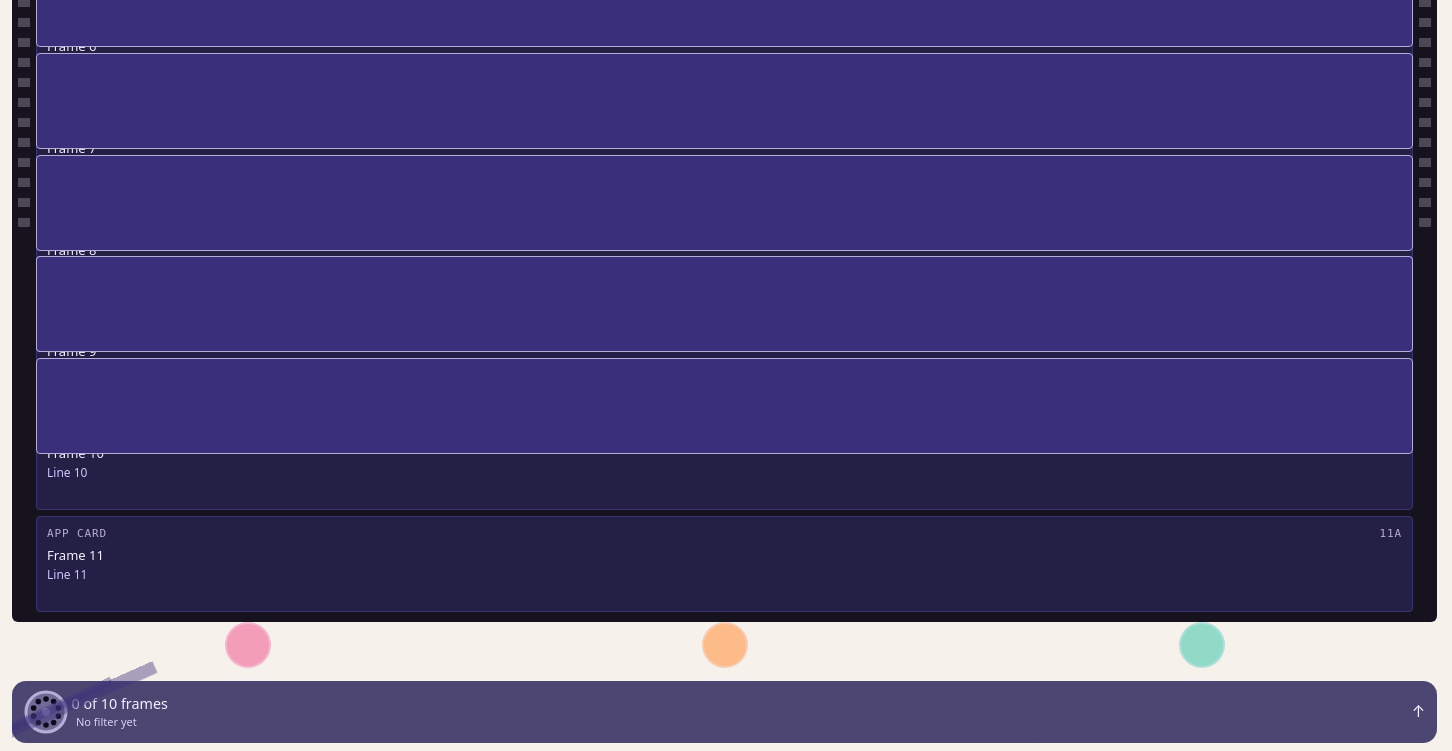
Test: film strip, filters and reel › a picked filter grades the reel
This screenshot has width=1452, height=751.
(page scrolled)
Click the button "Stonks": coordinates (248, 655) [14, 622, 481, 689]
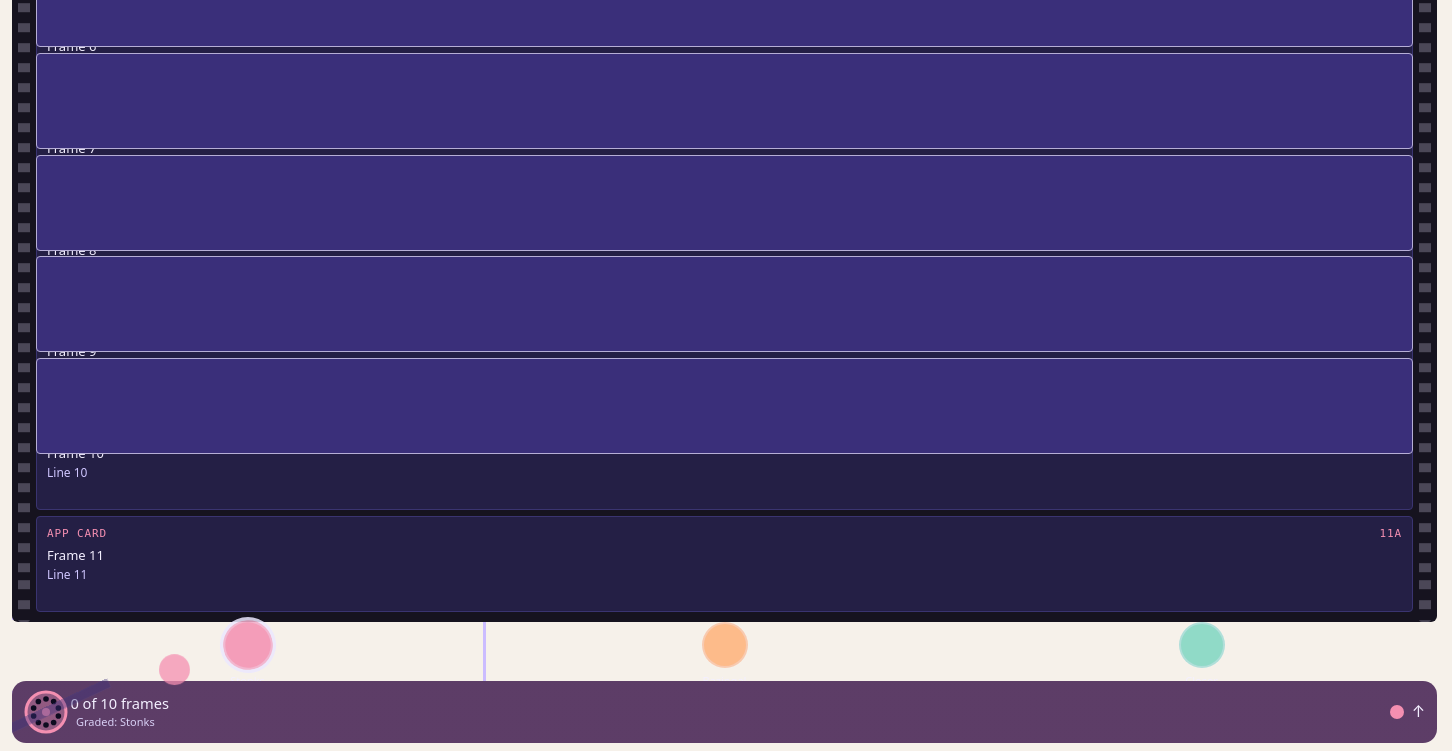
expect the text "Graded: Stonks" is shown: met, box [76, 714, 163, 730]
Click the button "Bazinga!": coordinates (724, 655) [491, 622, 958, 689]
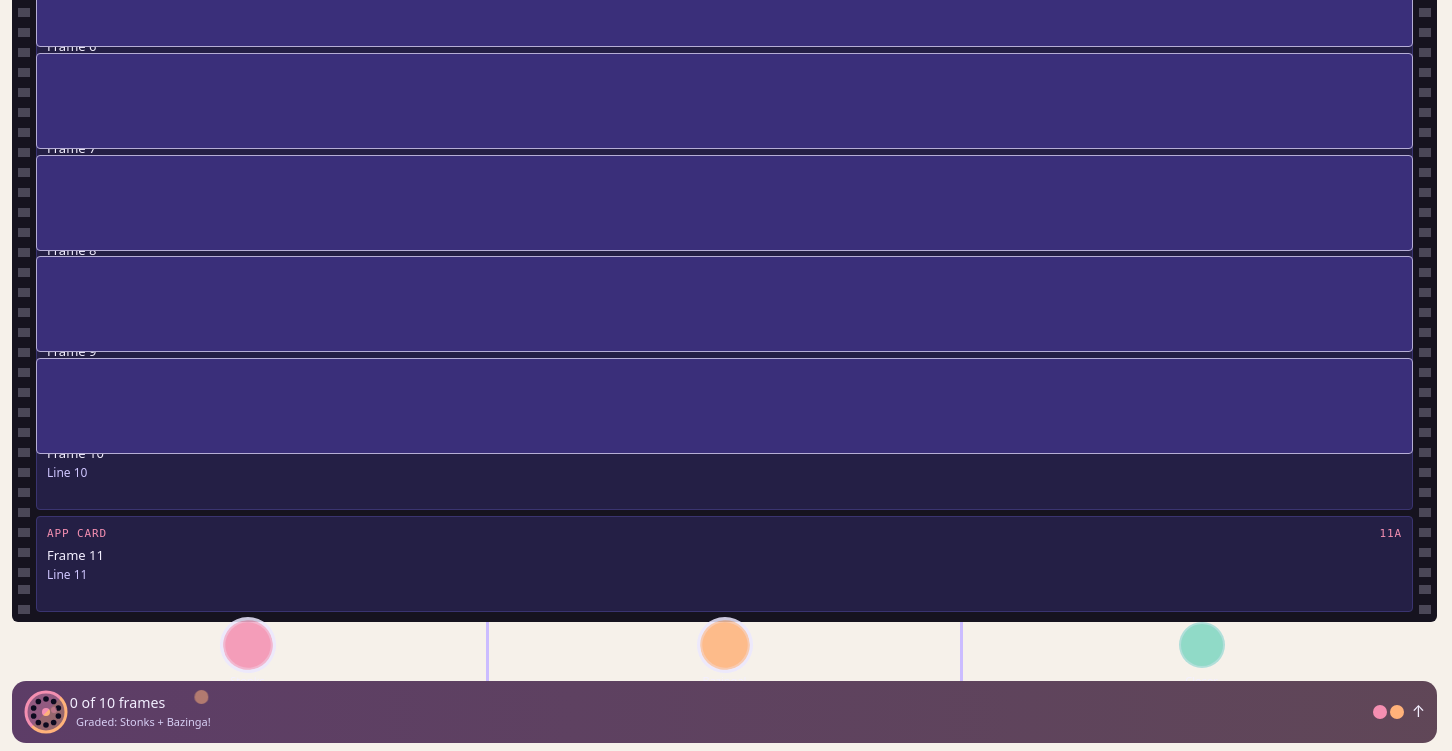
Click the button "Closer": coordinates (1202, 655) [968, 622, 1435, 689]
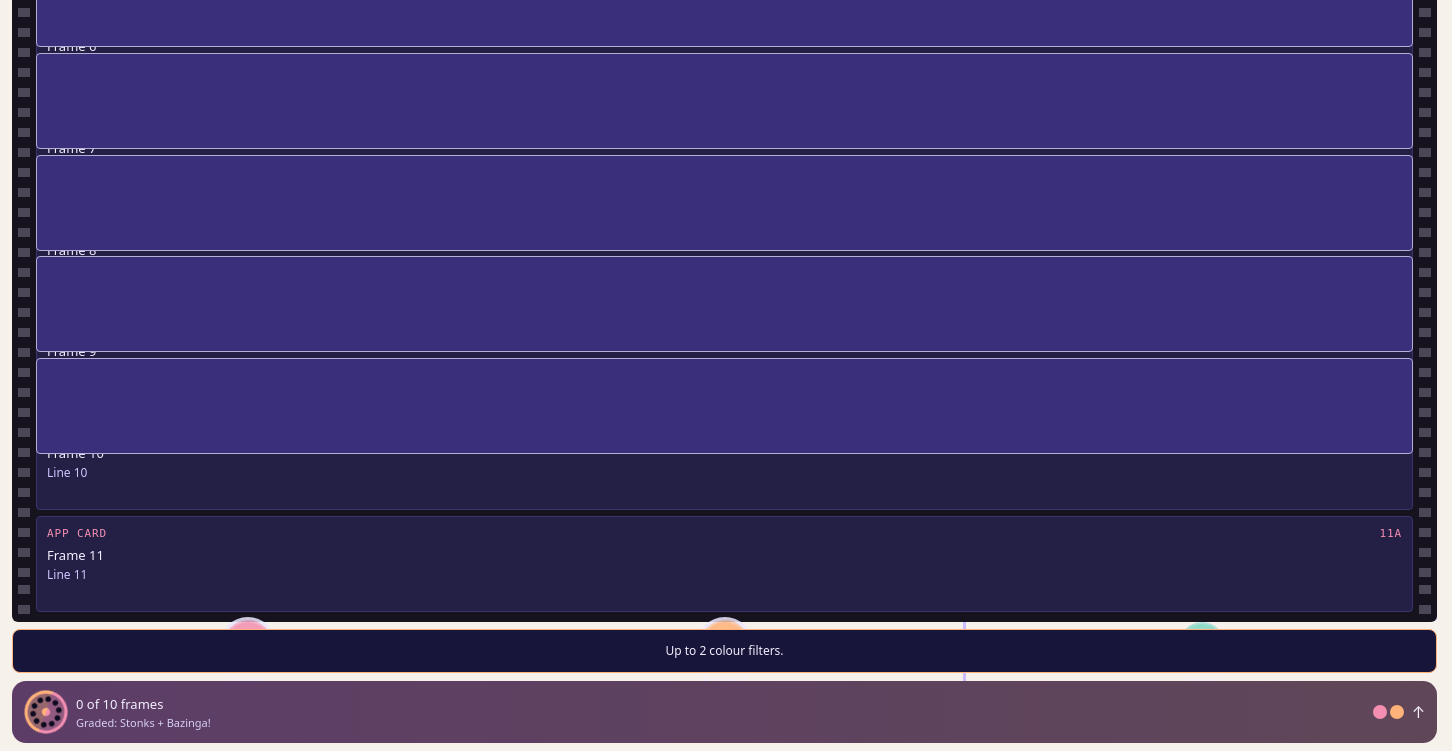
expect the text "Graded: Stonks + Bazinga!" is shown: met, box [76, 714, 211, 730]
expect the message reads "Up to 2 colour filters.": met, box [665, 641, 784, 658]
